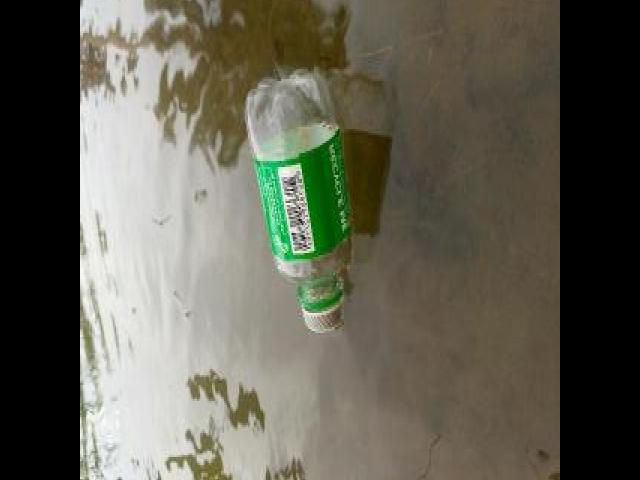Bottle: (242, 58, 360, 342)
